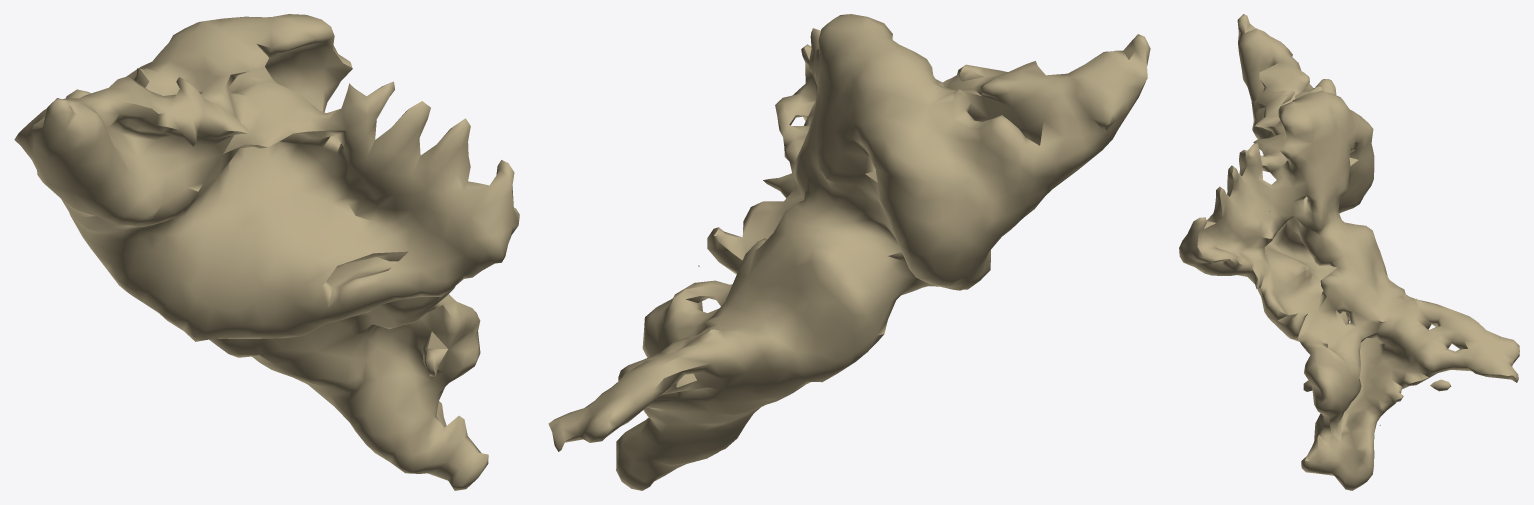
File: spl-1021.glb
3 renders of one model, left to right at view 1: azimuth 30°, elevation 25°; view 2: azimuth 150°, elevation 25°; view 3: azimuth 270°, elevation 25°, orthographic. The views are drawn at different scales.
Parts seen in each view (by area): view 1: spl-1021; view 2: spl-1021; view 3: spl-1021.
Boxes of the visible parts, <box> form: spl-1021: <box>14,14,519,490</box>; spl-1021: <box>548,14,1150,490</box>; spl-1021: <box>1179,14,1519,490</box>.
Size of the model in its own units: 28.63 by 30.15 by 27.8.
